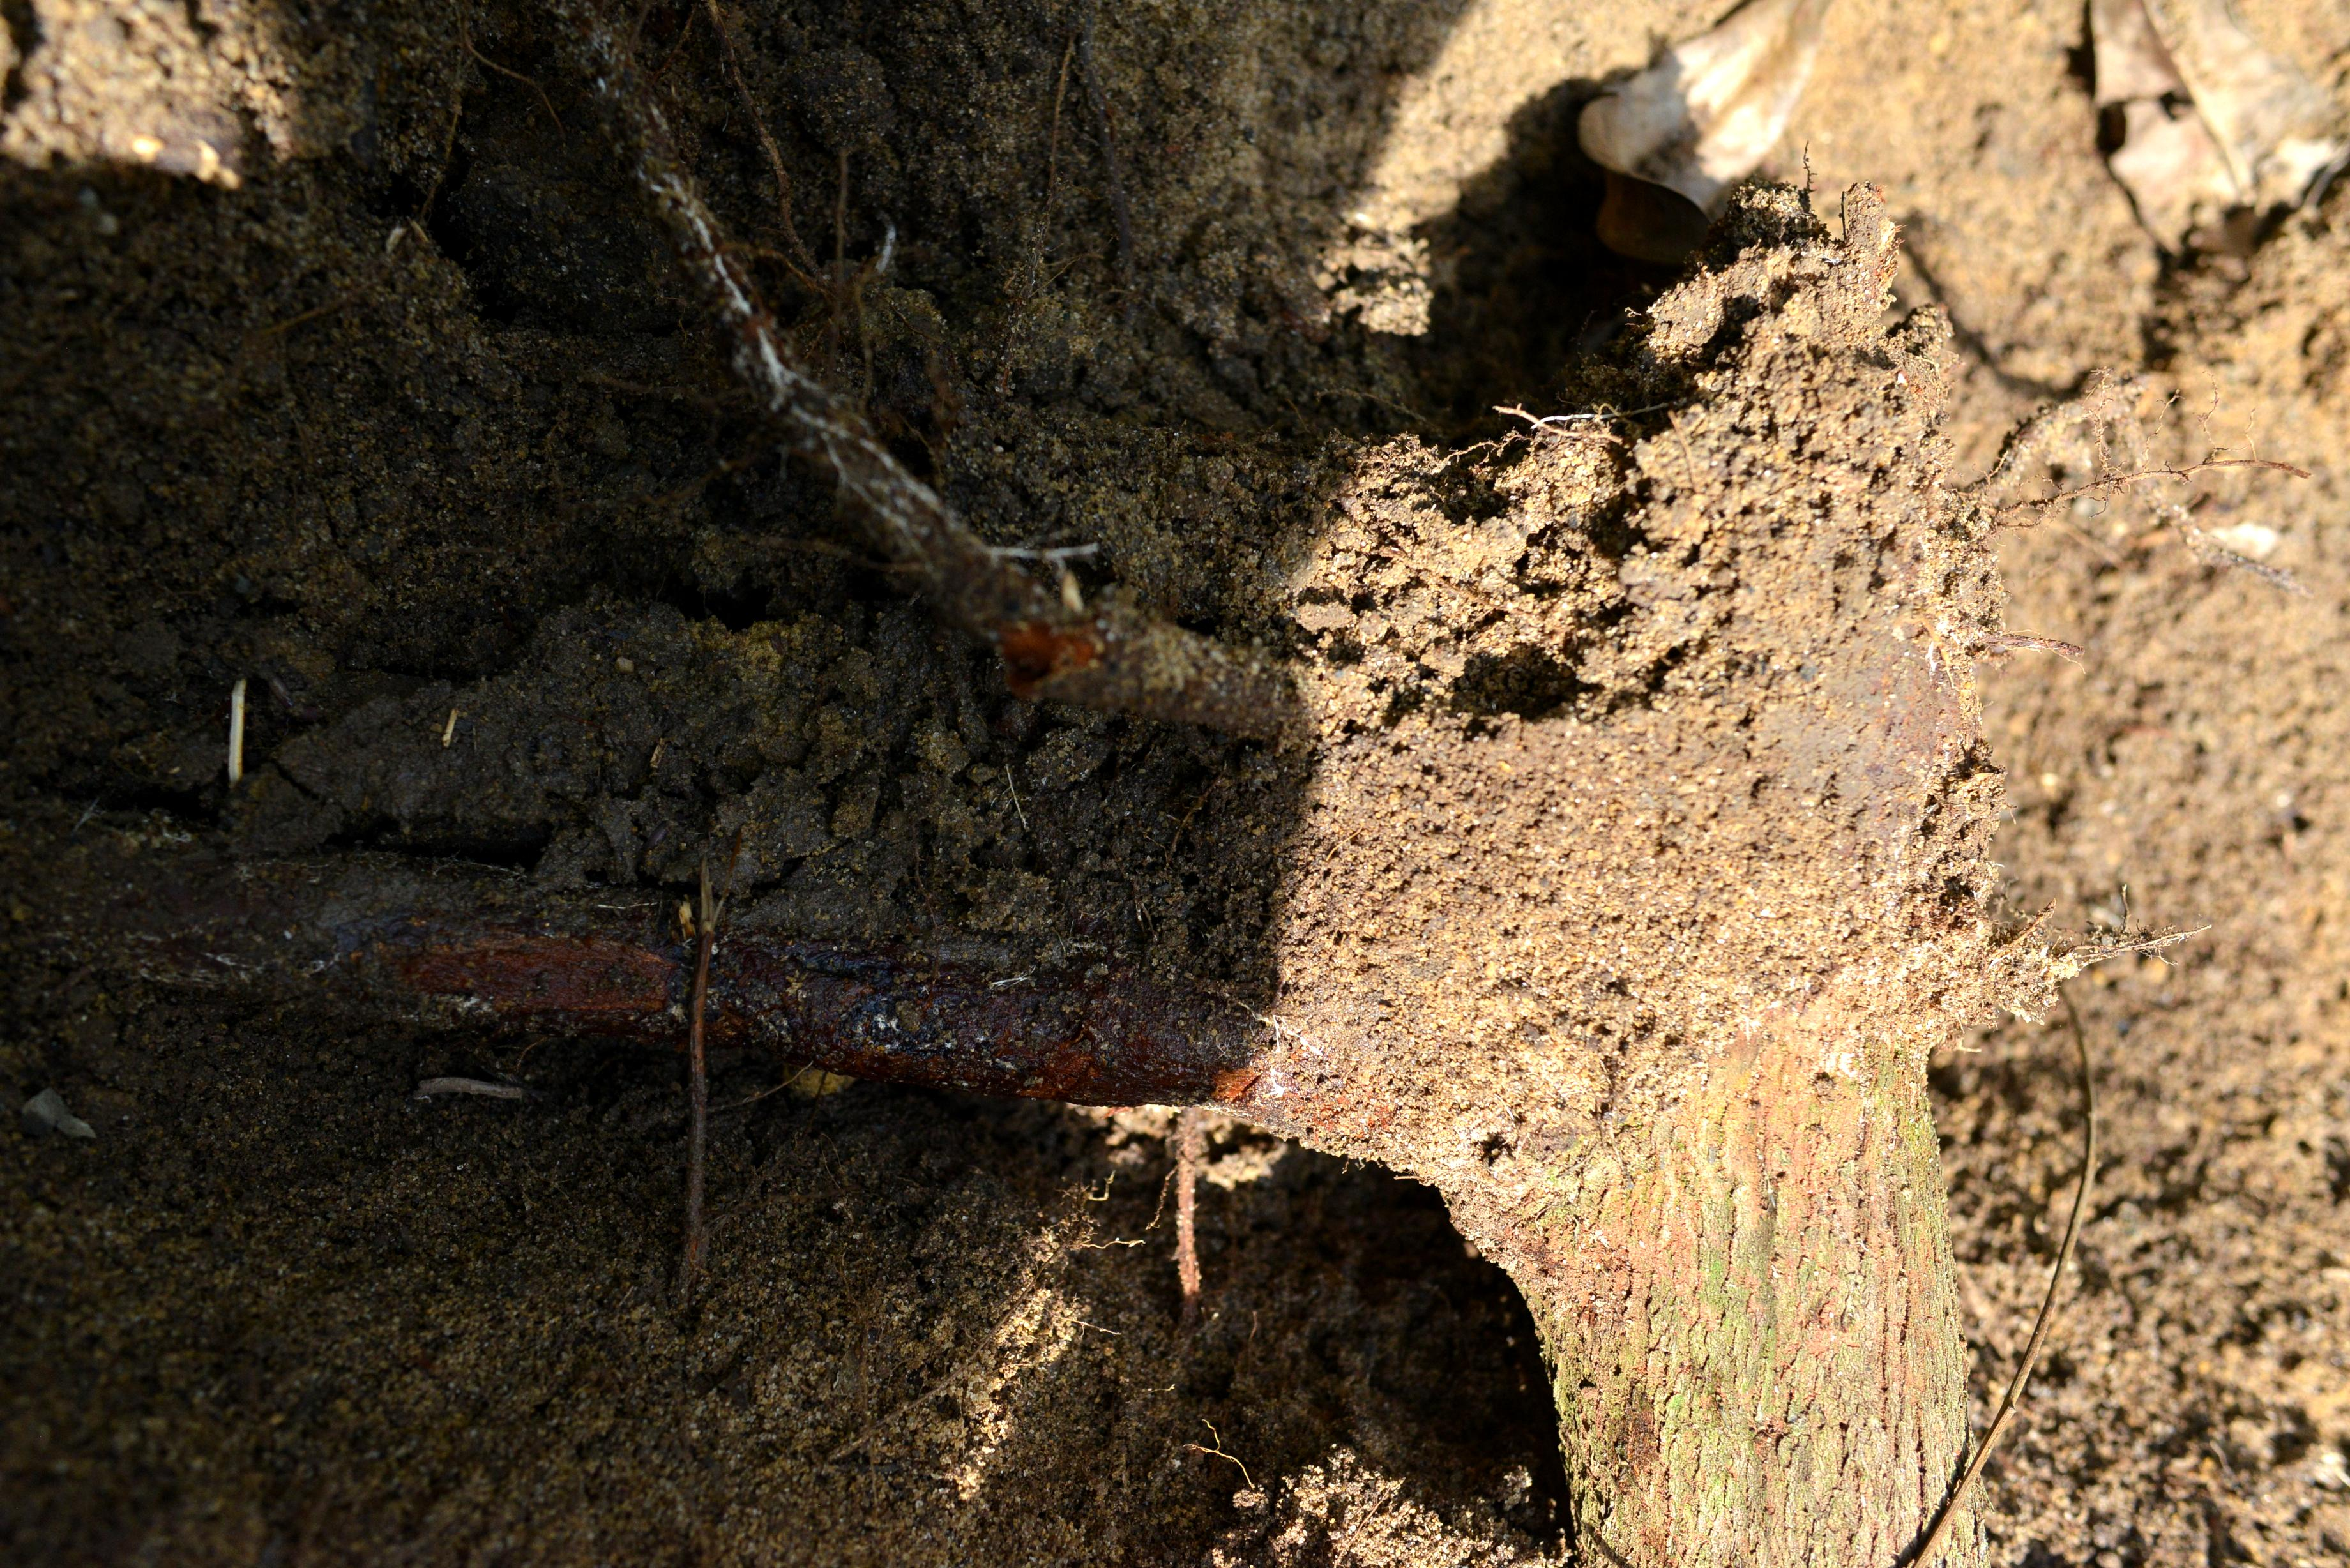Ganoderma - Mycelium: (635, 150, 975, 586), (23, 801, 313, 1011), (1248, 1045, 1566, 1202), (695, 931, 954, 1101), (982, 1017, 1232, 1118), (1881, 544, 1983, 710)
Red Root Rot - Secretion: (362, 861, 674, 1034), (982, 600, 1115, 714)
